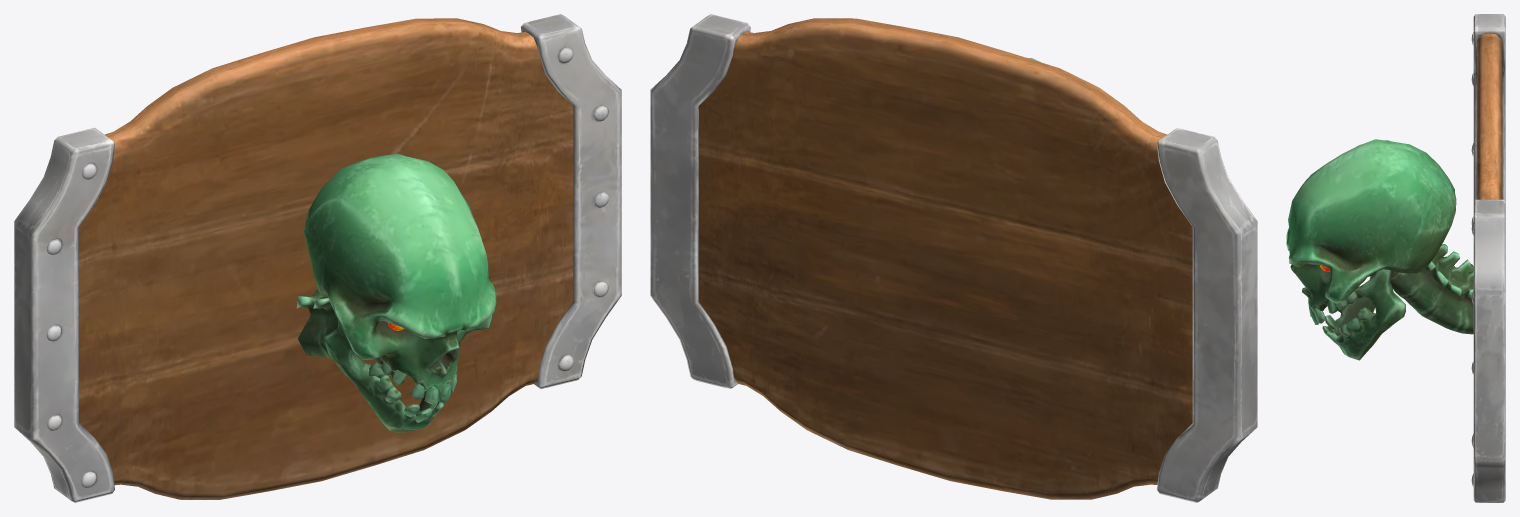
3 renders of one model, left to right at view 1: azimuth 30°, elevation 25°; view 2: azimuth 150°, elevation 25°; view 3: azimuth 270°, elevation 25°, orthographic. The views are drawn at different scales.
Parts seen in each view (by area): view 1: SM_Trophy_Plaque_SkeletonHead_LOD0; view 2: SM_Trophy_Plaque_SkeletonHead_LOD0; view 3: SM_Trophy_Plaque_SkeletonHead_LOD0.
Part boxes in pixels (x1,y1,x2,y2): SM_Trophy_Plaque_SkeletonHead_LOD0: [14, 14, 621, 502]; SM_Trophy_Plaque_SkeletonHead_LOD0: [650, 14, 1257, 502]; SM_Trophy_Plaque_SkeletonHead_LOD0: [1286, 14, 1505, 502].
Bounding box in the file's own units: 0.6514 × 0.4619 × 0.2568.
2 materials, 2 textured.
